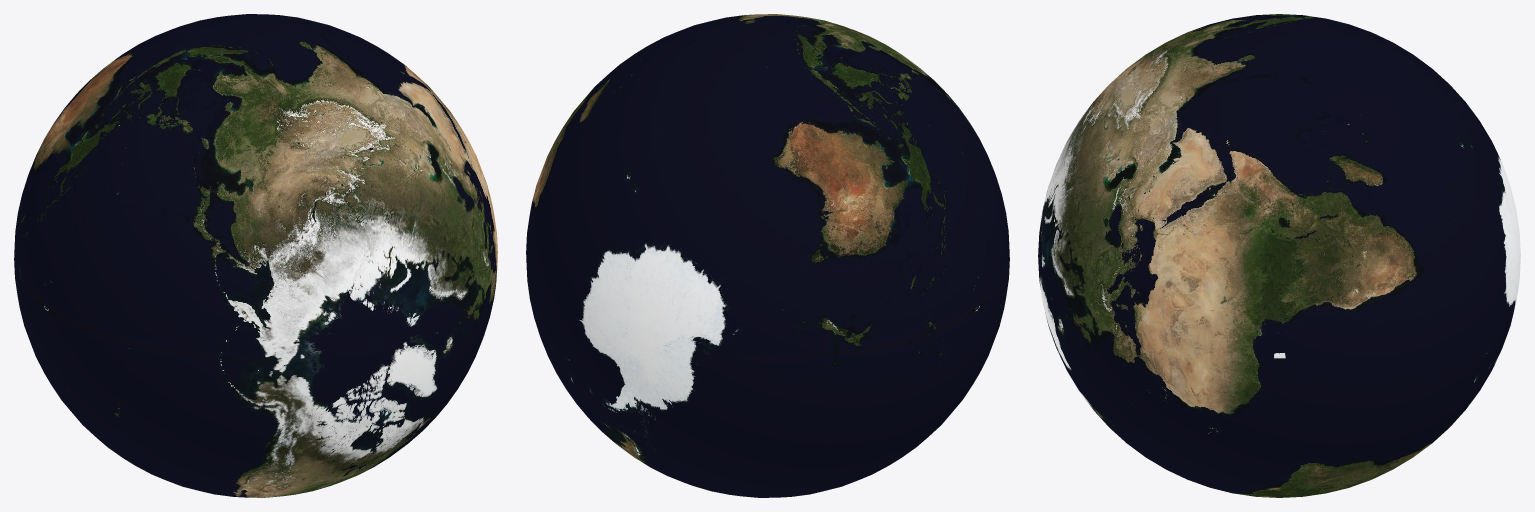
3 renders of one model, left to right at view 1: azimuth 30°, elevation 25°; view 2: azimuth 150°, elevation 25°; view 3: azimuth 270°, elevation 25°, orthographic.
Parts seen in each view (by area): view 1: DefaultName.006, DefaultName.003; view 2: DefaultName.006, DefaultName.003; view 3: DefaultName.006, DefaultName.003.
Part boxes in pixels (x1,y1,x2,y2): DefaultName.006: [14, 14, 497, 357]; DefaultName.003: [14, 260, 497, 497]; DefaultName.006: [526, 14, 1009, 357]; DefaultName.003: [526, 260, 1009, 497]; DefaultName.006: [1038, 14, 1520, 358]; DefaultName.003: [1038, 260, 1520, 497].
Bounding box in the file's own units: 127563 × 127563 × 127135.
Materials: 2 (2 with a texture image).
